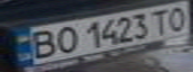1: (81, 19, 103, 49)
2: (115, 14, 136, 44)
3: (130, 11, 154, 40)
4: (100, 16, 121, 46)
B: (24, 27, 63, 61)
O: (48, 25, 81, 55), (163, 2, 193, 32)
T: (148, 7, 175, 35)
